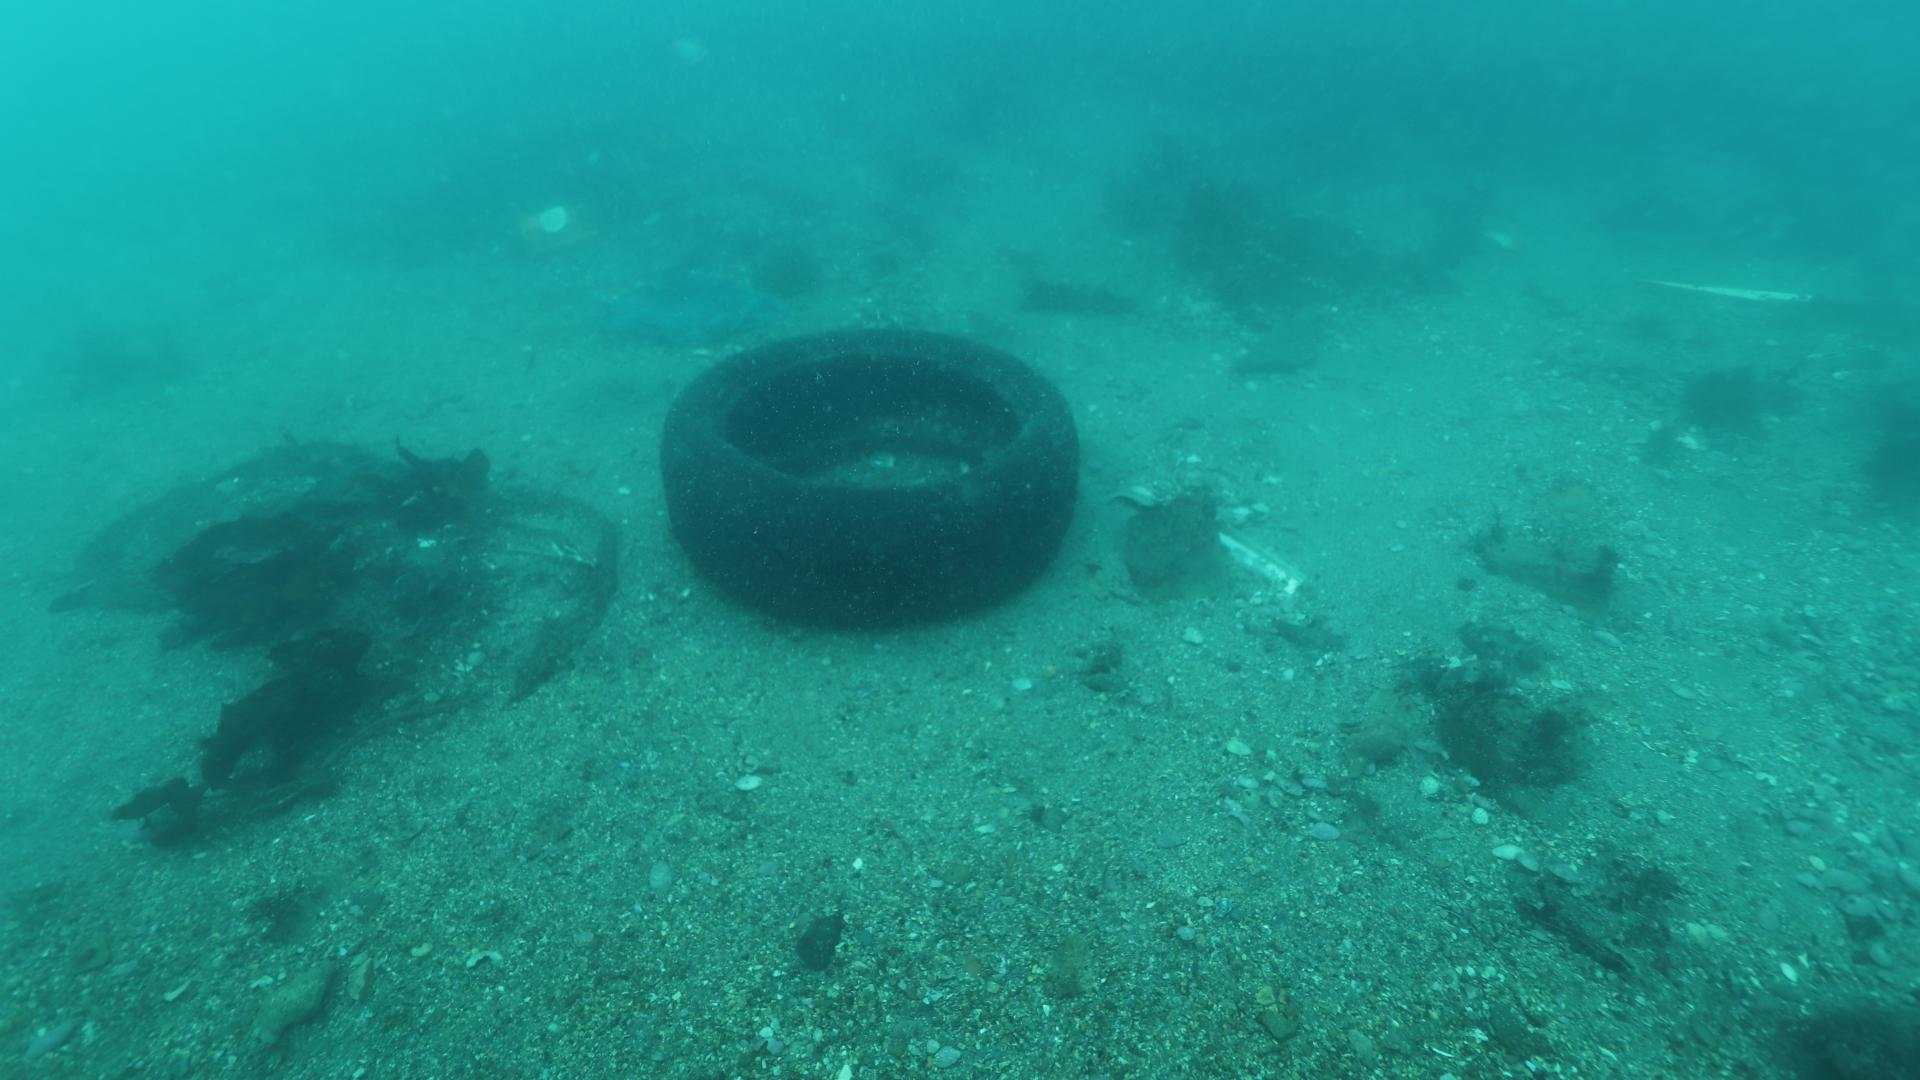tire: (661, 320, 1084, 626)
